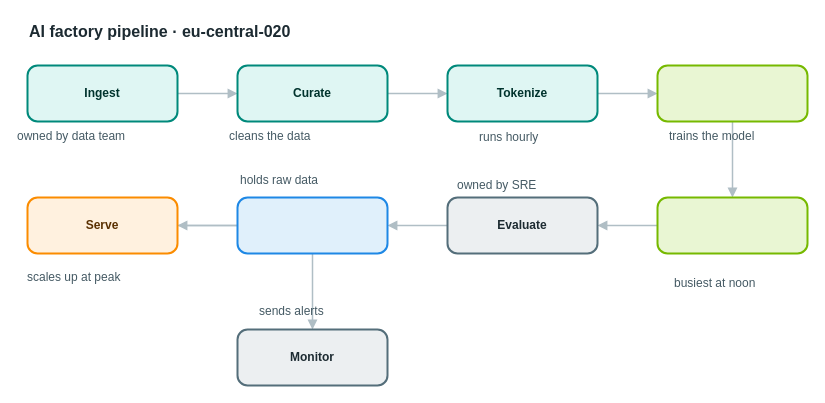
The diagram is 825 pixels wide and 403 high, and some of its shapes have lost their labels. The shapes that lost their labels are listed below. From the top down, each one's box as (x1, y1, x2, y2) in pixels, then its label:
(656, 64, 808, 122): Pretrain
(236, 196, 388, 254): Model registry
(656, 196, 808, 254): Fine-tune
